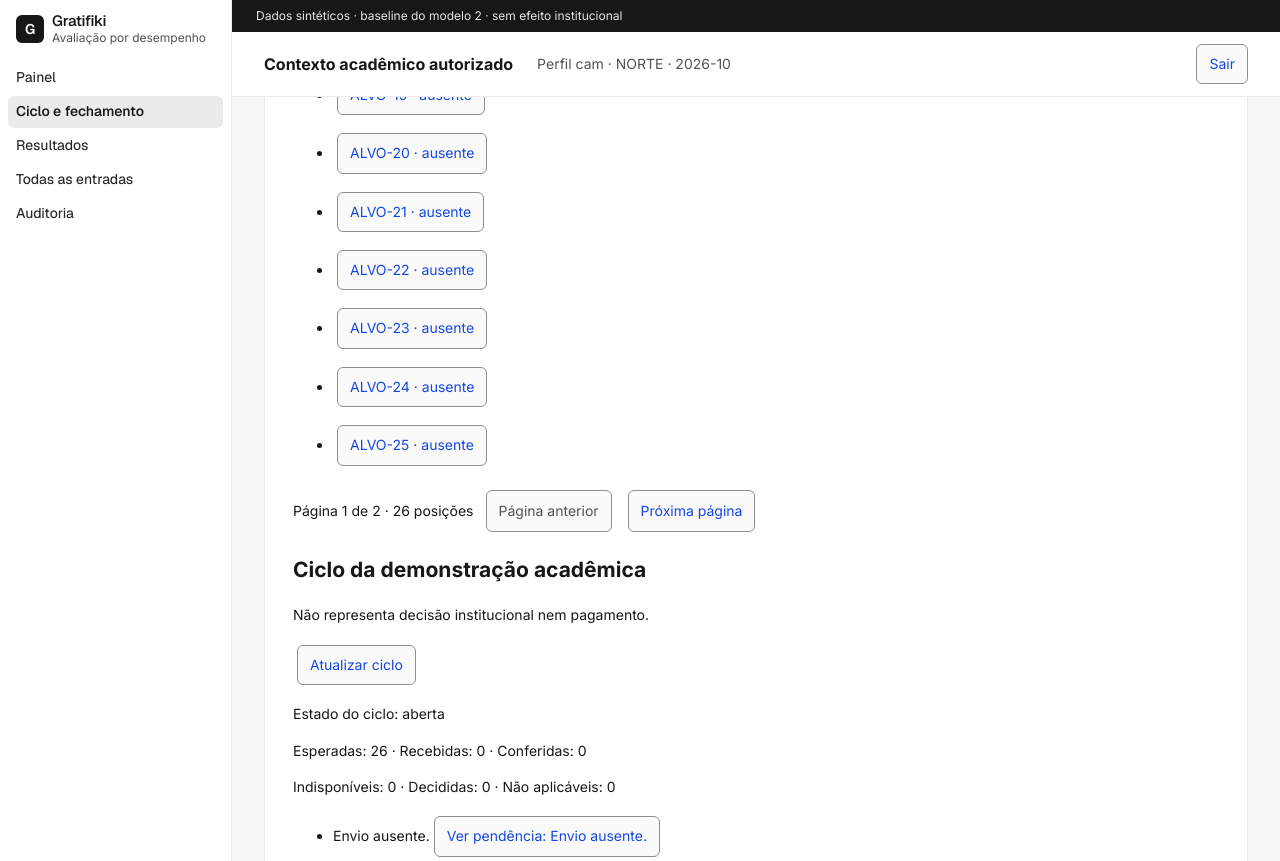
pages the CAM queue beyond the first 25 authorized targets and opens the 26th
(page scrolled)
Expected: the button "ALVO-25 · ausente" is shown, [337, 425, 487, 466]
Expected: the button "ALVO-26" is not shown
Click the button "Próxima página". click: (692, 511)
box: [628, 490, 755, 532]
(page scrolled)
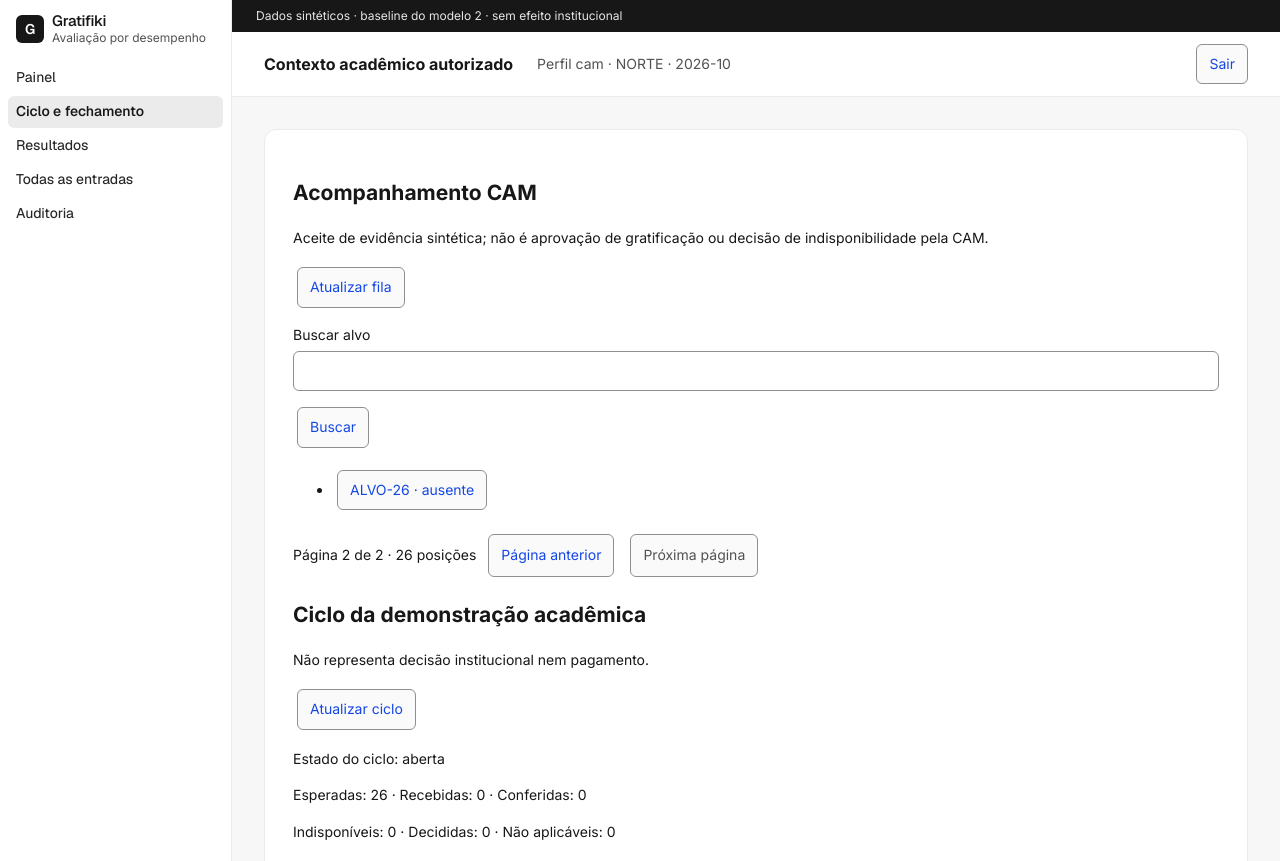
Click the button "ALVO-26 · ausente". click: (412, 490)
box: [337, 470, 487, 510]
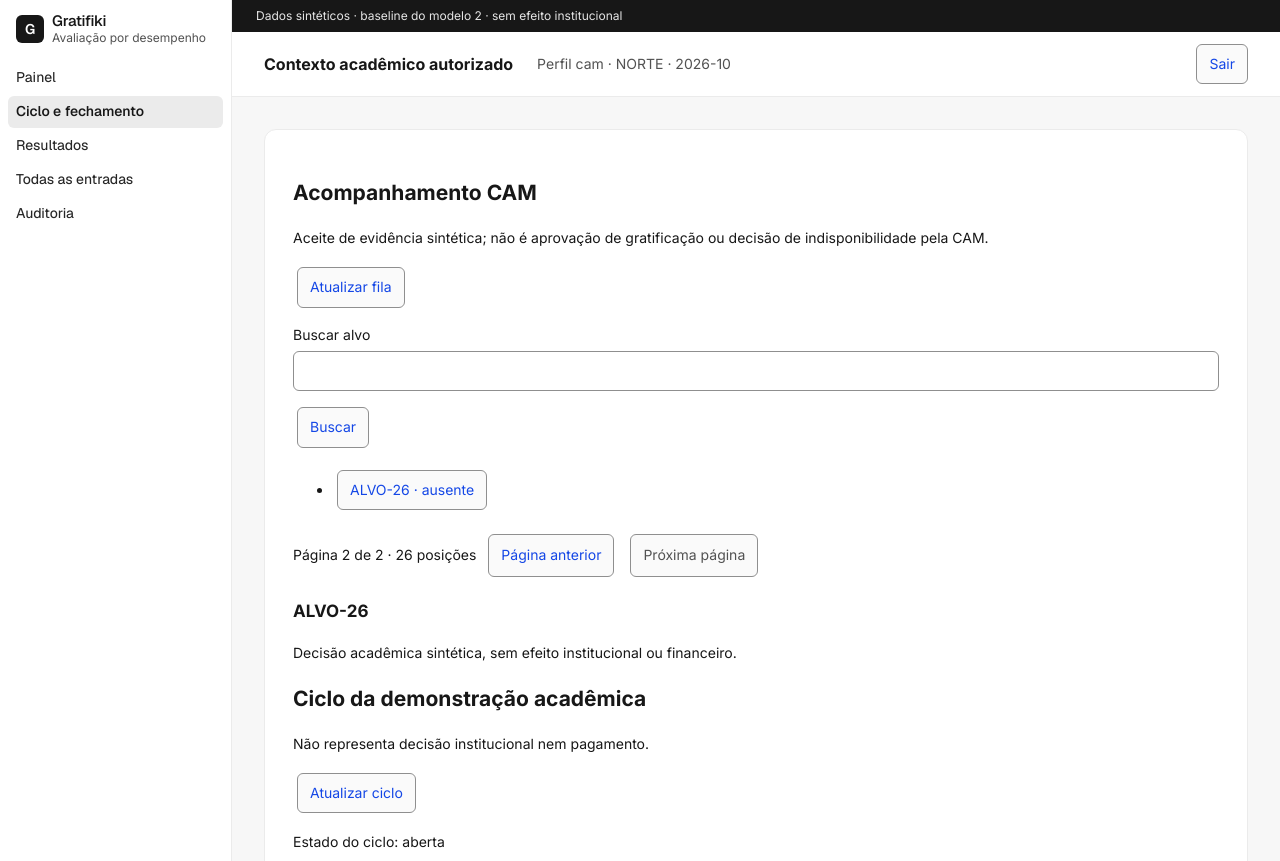
Now the heading "ALVO-26" is shown, box [293, 601, 368, 621]
